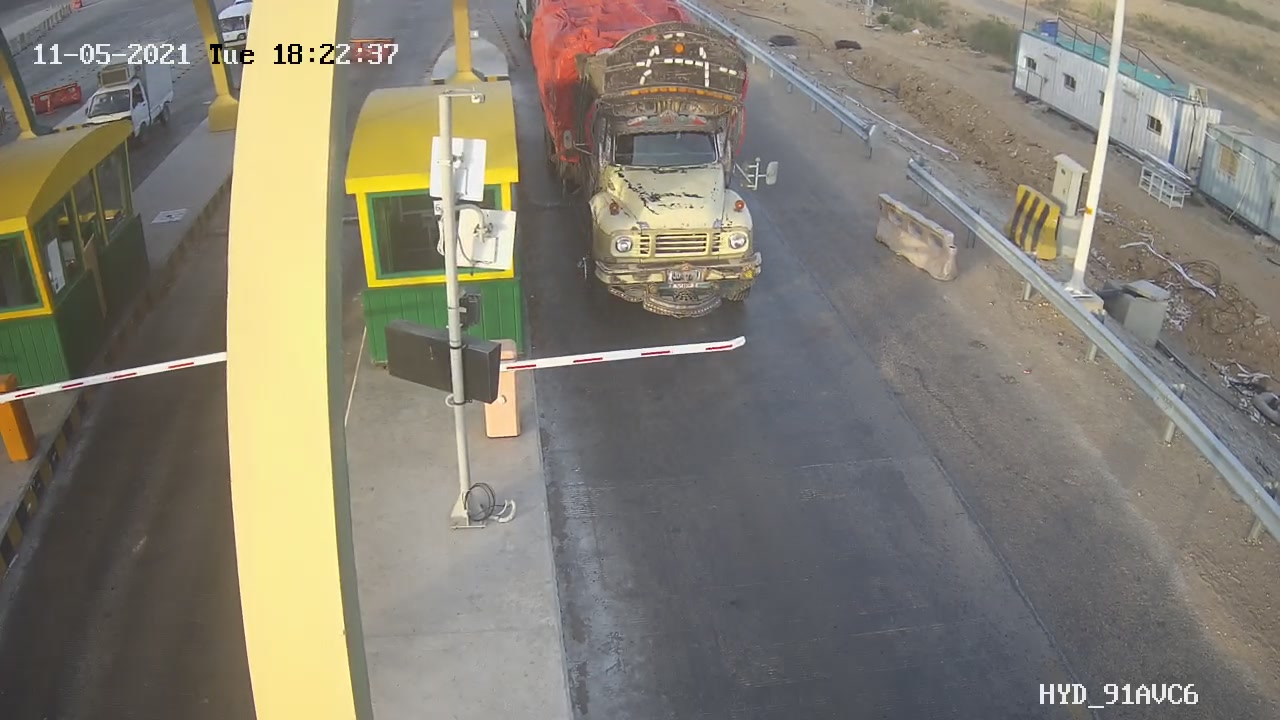F5: (563, 22, 785, 327)
